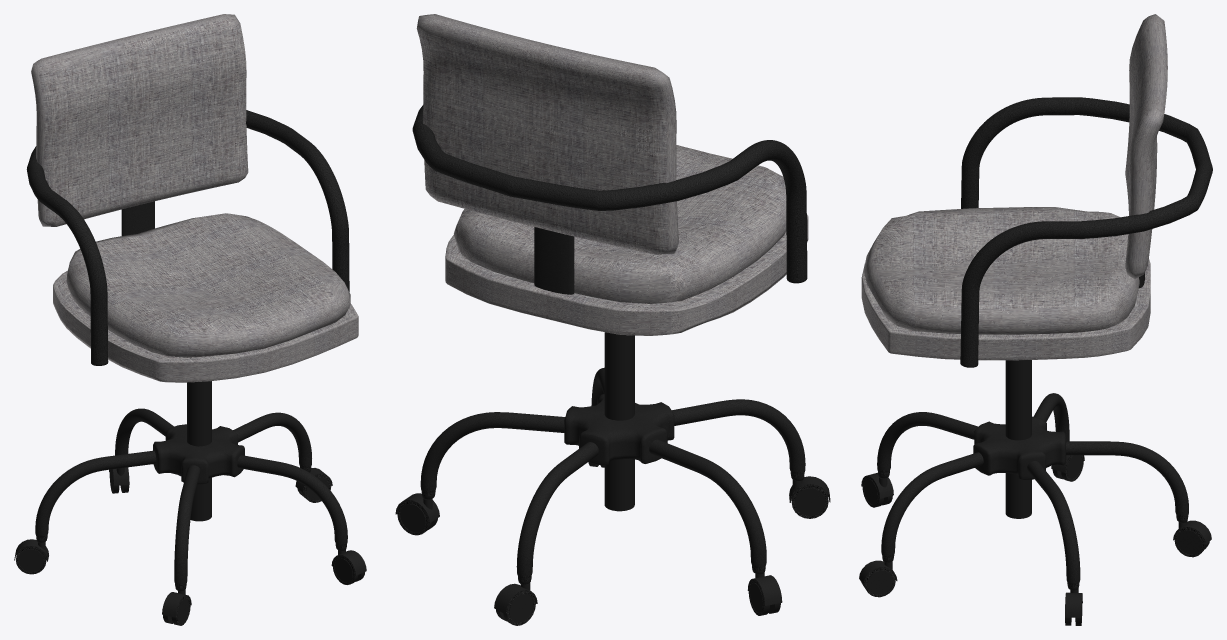
Rendered from DeskChair.fbx.
3 renders of one model, left to right at view 1: azimuth 30°, elevation 25°; view 2: azimuth 150°, elevation 25°; view 3: azimuth 270°, elevation 25°, orthographic. The views are drawn at different scales.
Parts seen in each view (by area): view 1: pCube11, pCube10, pCube9, pTorus1, pCylinder9, pCylinder11, polySurface1, polySurface11, polySurface6, polySurface16, polySurface21, pCylinder16 (+2 smaller); view 2: pCube11, pCube10, pCube9, pTorus1, pCylinder9, pCylinder11, polySurface16, polySurface1, polySurface6, polySurface21, pCylinder16, polySurface9 (+2 smaller); view 3: pCube10, pTorus1, pCube9, pCube11, pCylinder9, pCylinder11, polySurface21, polySurface11, polySurface16, polySurface6, polySurface1, polySurface12 (+1 smaller).
Part boxes in pixels (bbox=[...]): pCube11: bbox=[31, 14, 248, 226]; pCube10: bbox=[66, 213, 350, 357]; pCube9: bbox=[53, 270, 358, 382]; pTorus1: bbox=[26, 110, 349, 365]; pCylinder9: bbox=[153, 424, 244, 484]; pCylinder11: bbox=[187, 381, 211, 521]; polySurface1: bbox=[35, 450, 156, 542]; polySurface11: bbox=[237, 455, 347, 550]; polySurface6: bbox=[174, 465, 200, 591]; polySurface16: bbox=[233, 412, 311, 472]; polySurface21: bbox=[115, 408, 173, 455]; pCylinder16: bbox=[121, 201, 154, 235]; pCube11: bbox=[416, 14, 678, 254]; pCube10: bbox=[454, 145, 786, 303]; pCube9: bbox=[445, 214, 808, 335]; pTorus1: bbox=[412, 105, 807, 283]; pCylinder9: bbox=[564, 394, 674, 465]; pCylinder11: bbox=[604, 332, 634, 511]; polySurface16: bbox=[420, 412, 565, 499]; polySurface1: bbox=[649, 439, 766, 574]; polySurface6: bbox=[672, 399, 805, 481]; polySurface21: bbox=[516, 442, 598, 584]; pCylinder16: bbox=[534, 227, 574, 294]; polySurface9: bbox=[791, 485, 828, 518]; pCube10: bbox=[863, 207, 1139, 334]; pTorus1: bbox=[960, 97, 1212, 367]; pCube9: bbox=[861, 259, 1150, 360]; pCube11: bbox=[1125, 14, 1167, 278]; pCylinder9: bbox=[973, 416, 1066, 479]; pCylinder11: bbox=[1005, 360, 1031, 518]; polySurface21: bbox=[1066, 441, 1188, 522]; polySurface11: bbox=[881, 452, 983, 562]; polySurface16: bbox=[1027, 461, 1080, 590]; polySurface6: bbox=[877, 412, 977, 478]; polySurface1: bbox=[1033, 393, 1069, 441]; polySurface12: bbox=[864, 568, 895, 597].
Bounding box in the file's own units: 5.05 × 7.16 × 4.69.
2 materials, 2 textured.
